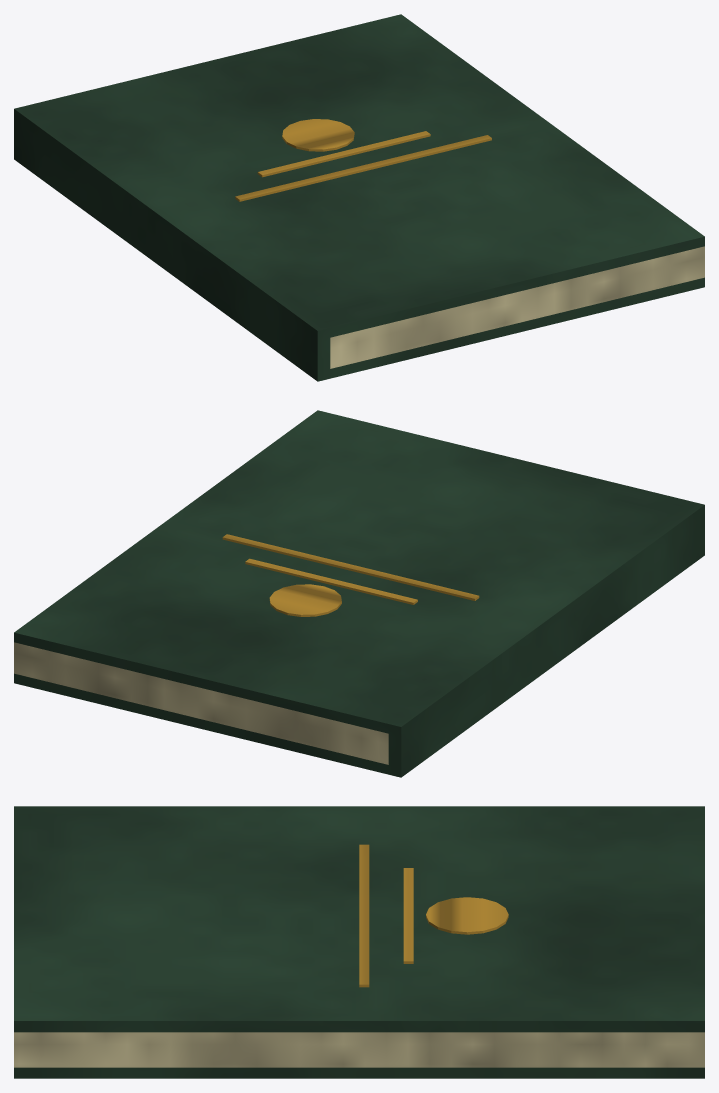
The model's file is travel_permit.fbx.
The picture shows the model from 3 angles, top to bottom: view 1: azimuth 30°, elevation 25°; view 2: azimuth 150°, elevation 25°; view 3: azimuth 270°, elevation 25°; orthographic projection. The views are drawn at different scales.
Parts seen in each view (by area): view 1: travel_permit; view 2: travel_permit; view 3: travel_permit.
Boxes of the visible parts, x1,y1,x2,y2 form: travel_permit: (14,14,704,381); travel_permit: (14,410,704,777); travel_permit: (14,806,704,1078).
Size of the model in its own units: 9.2 by 1.2 by 12.5.
